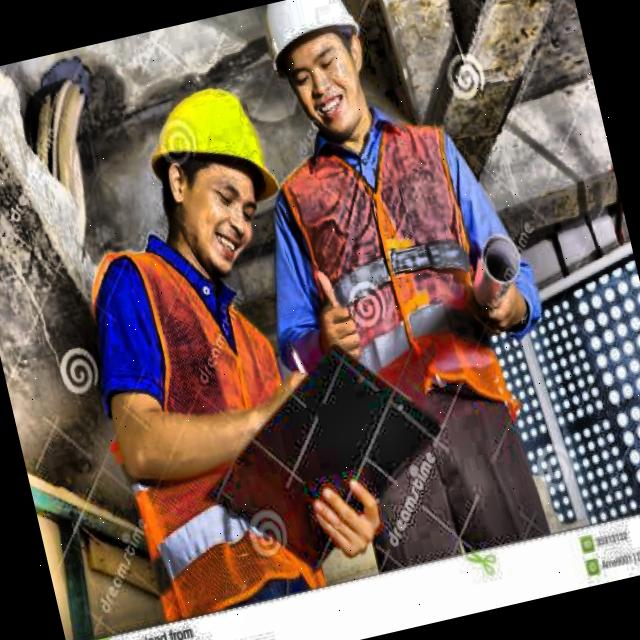helmet: (115, 62, 299, 286), (247, 0, 395, 166)
